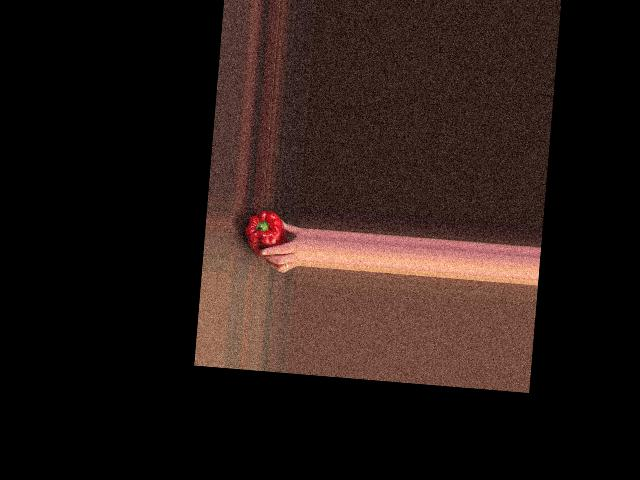bell_pepper: (242, 208, 287, 255)
